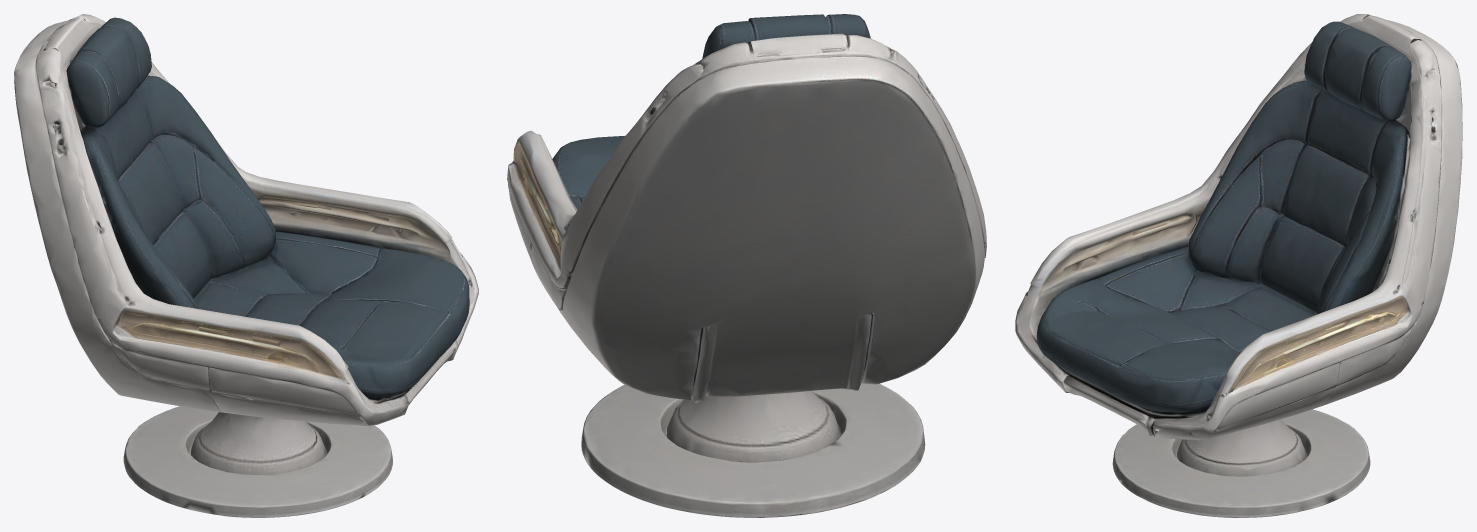
The model's file is prop_s4_pilot_chair.glb.
3 renders of one model, left to right at view 1: azimuth 30°, elevation 25°; view 2: azimuth 150°, elevation 25°; view 3: azimuth 270°, elevation 25°, orthographic. The views are drawn at different scales.
Parts seen in each view (by area): view 1: tripo_node_d0a748a7-5ad9-4fd6-bc26-1e9ad58b3405; view 2: tripo_node_d0a748a7-5ad9-4fd6-bc26-1e9ad58b3405; view 3: tripo_node_d0a748a7-5ad9-4fd6-bc26-1e9ad58b3405.
Part boxes in pixels (x1,y1,x2,y2): tripo_node_d0a748a7-5ad9-4fd6-bc26-1e9ad58b3405: (14, 14, 478, 517); tripo_node_d0a748a7-5ad9-4fd6-bc26-1e9ad58b3405: (507, 14, 986, 517); tripo_node_d0a748a7-5ad9-4fd6-bc26-1e9ad58b3405: (1015, 14, 1462, 517).
Bounding box in the file's own units: 1.02 × 1 × 1.05.
1 material, 1 textured.
